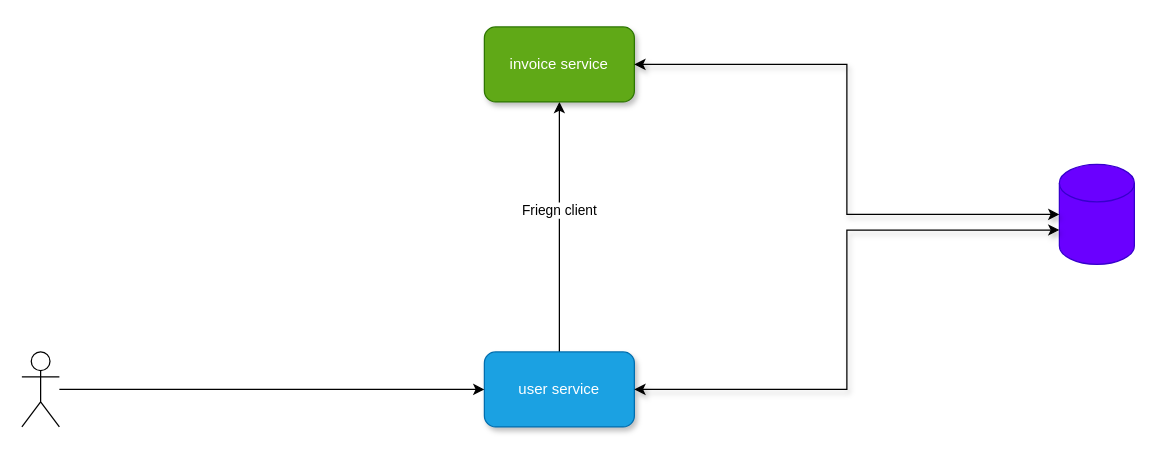
This 1156x475 diagram has some shape labels left out. Each missing label, with the centre of its shape:
Actor: point (40, 389)
postgres database: point (1096, 213)
